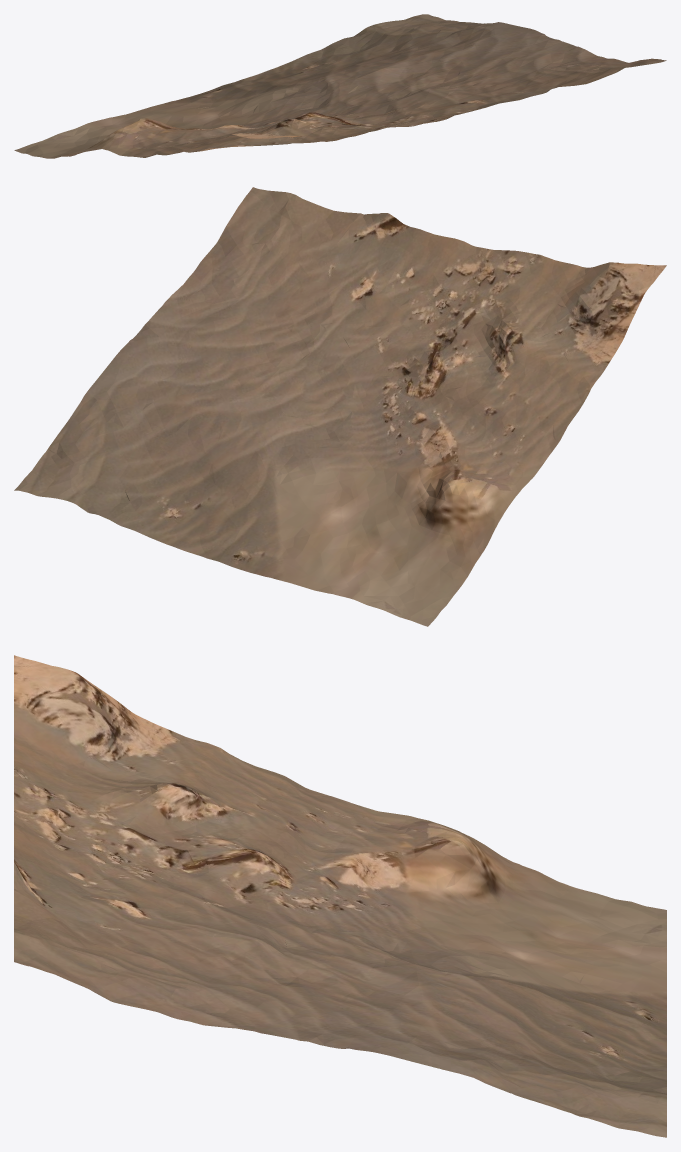
3 renders of one model, top to bottom at view 1: azimuth 30°, elevation 25°; view 2: azimuth 150°, elevation 25°; view 3: azimuth 270°, elevation 25°, orthographic. The views are drawn at different scales.
Size of the model in its own units: 1.04 by 0.4499 by 1.04.
3 materials, 3 textured.
